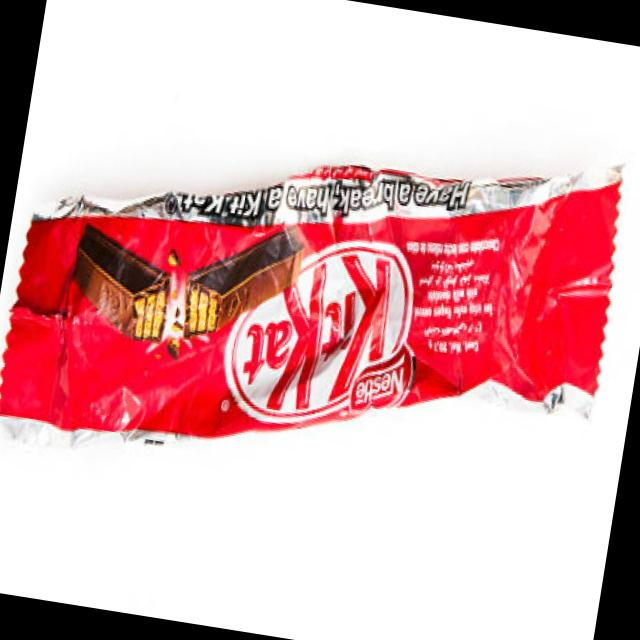KemasanPlastik: (0, 78, 634, 525)
